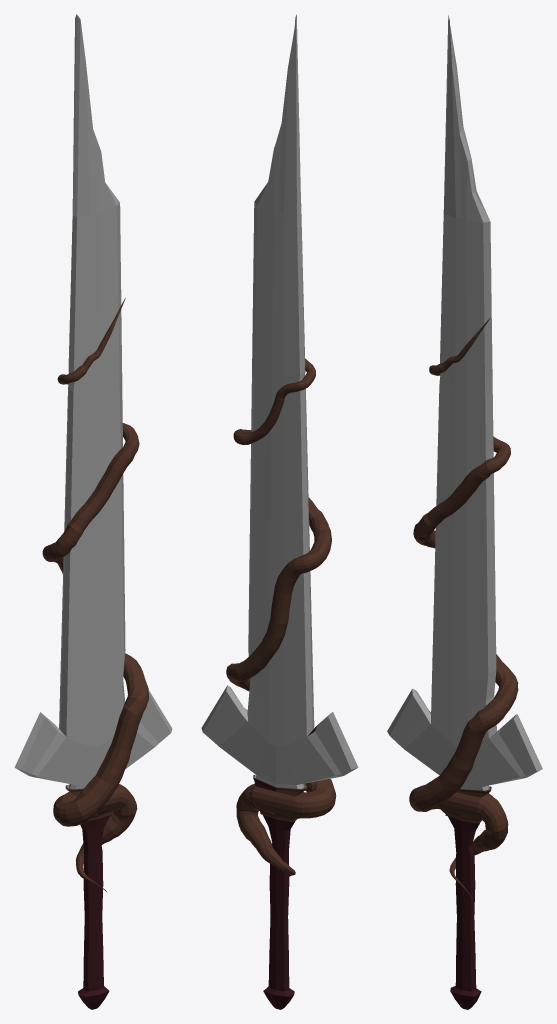
The model's file is Forest Sword.fbx.
The picture shows the model from 3 angles, left to right: view 1: azimuth 30°, elevation 25°; view 2: azimuth 150°, elevation 25°; view 3: azimuth 330°, elevation 25°; orthographic projection.
Parts seen in each view (by area): view 1: Cylinder; view 2: Cylinder; view 3: Cylinder.
Boxes of the visible parts, box(x1,y1,x2,y2) form: Cylinder: box(14, 14, 172, 1009); Cylinder: box(201, 14, 358, 1009); Cylinder: box(387, 15, 542, 1009).
Size of the model in its own units: 53.86 by 20.72 by 326.
